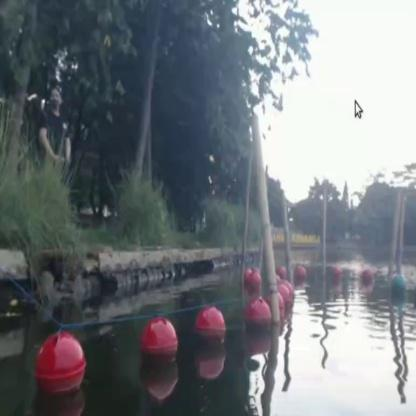green_buoy: (392, 272, 406, 302)
red_buoy: (35, 332, 84, 396), (140, 320, 176, 374), (195, 308, 226, 350), (246, 295, 270, 342), (242, 268, 261, 292), (360, 264, 373, 290), (277, 293, 287, 325), (284, 282, 295, 310), (295, 262, 306, 288)
